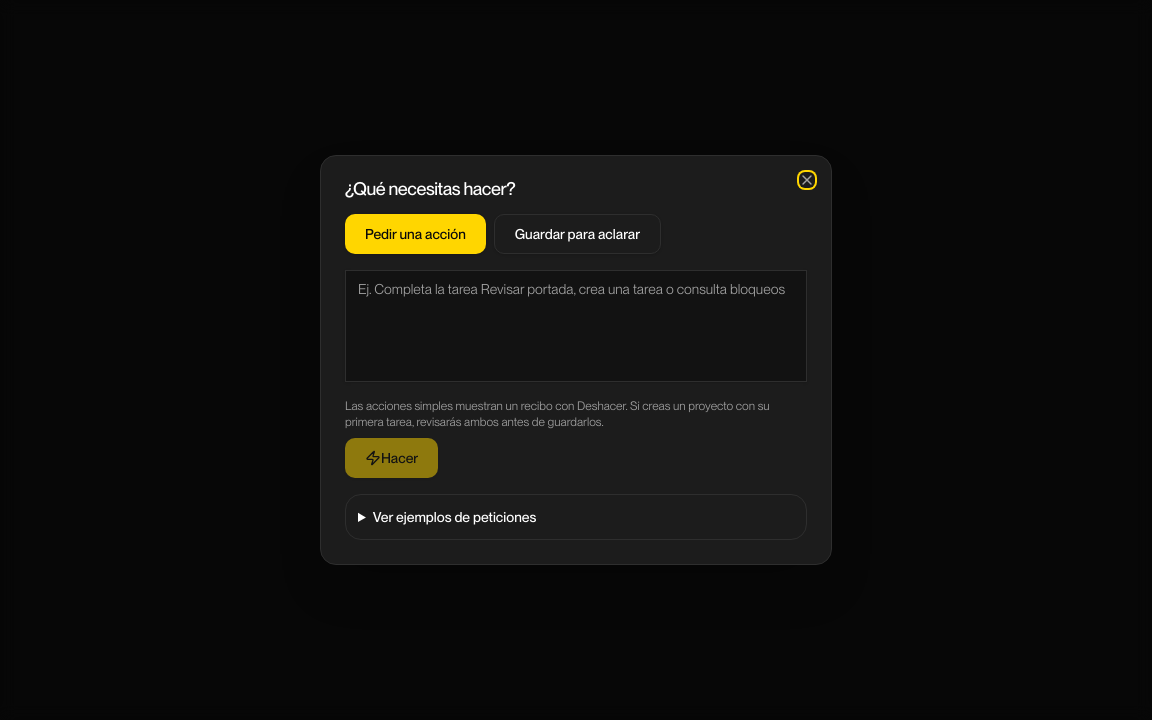
Test case: command entry › offers a reviewable commercial handoff without claiming creation or undo
Type "Crea SEO con tarifa 500 EUR" into the text box named "Petición". click: {"x": 576, "y": 326}
box: [345,270,807,382]
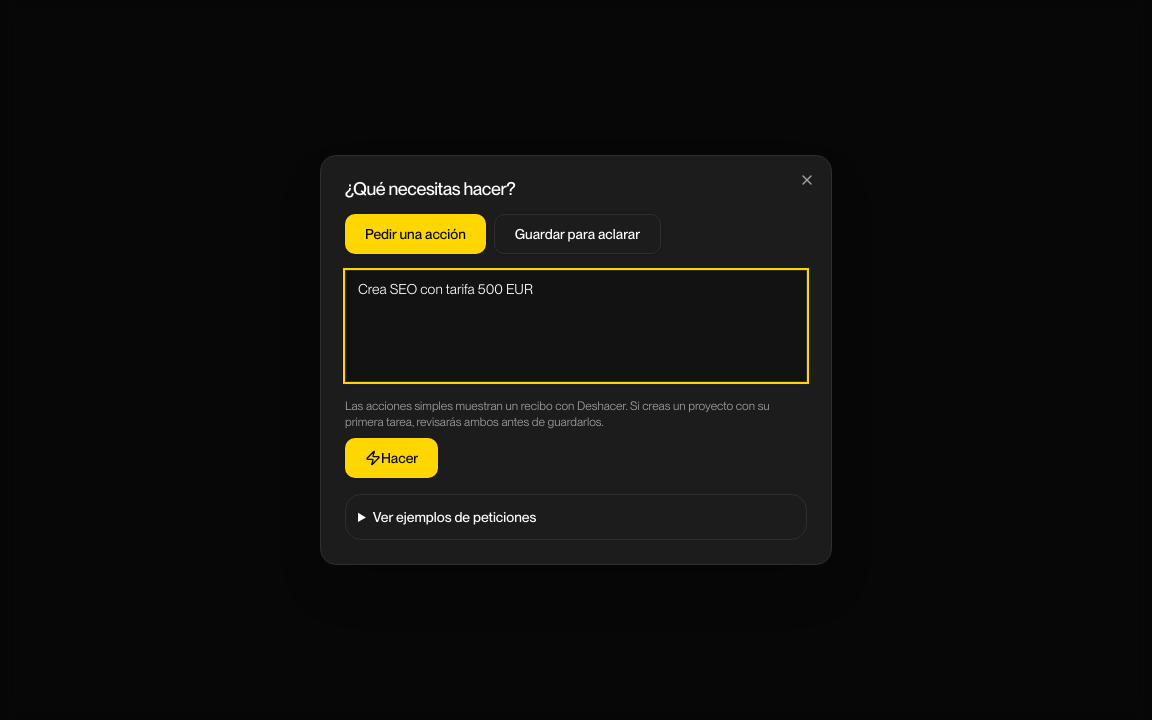
Click the button "Hacer". click: {"x": 392, "y": 458}
box: [345,438,438,478]
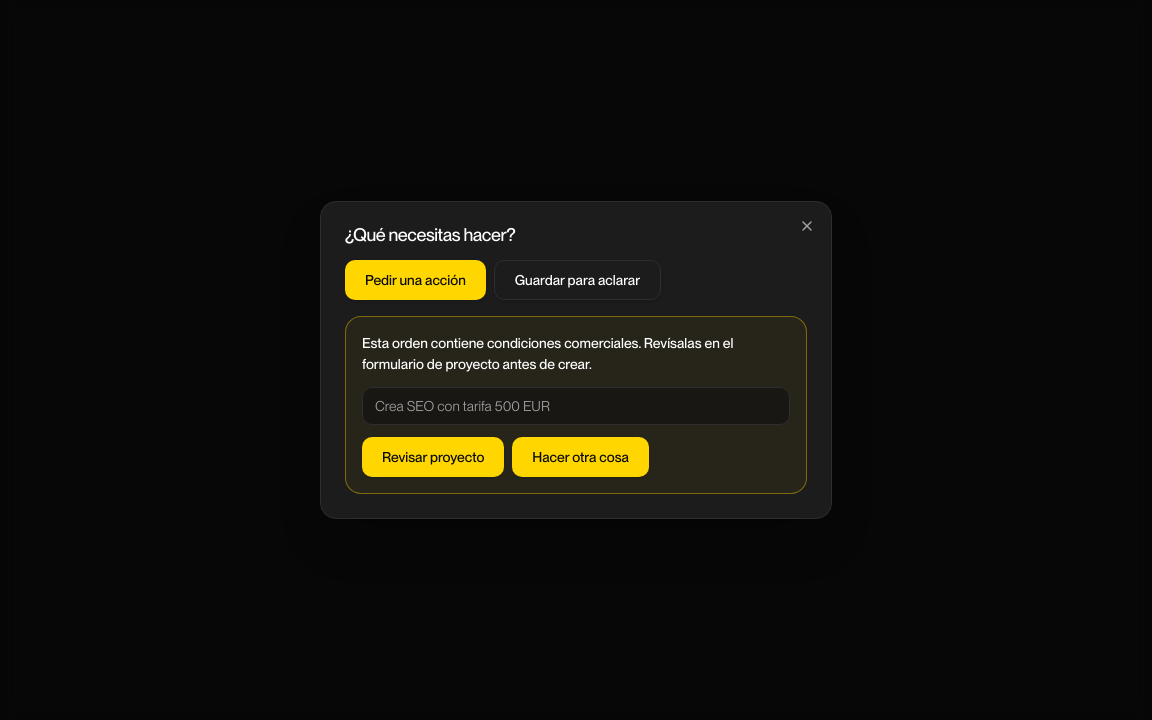
Check: the text "Crea SEO con tarifa 500 EUR" is shown, box [362,387,790,425]
Check: the text "Deshacer" is gone
